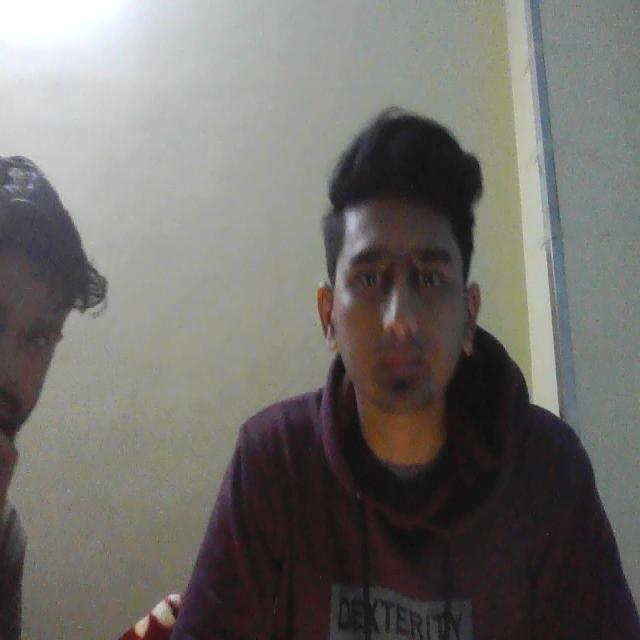real: (323, 128, 486, 436)
